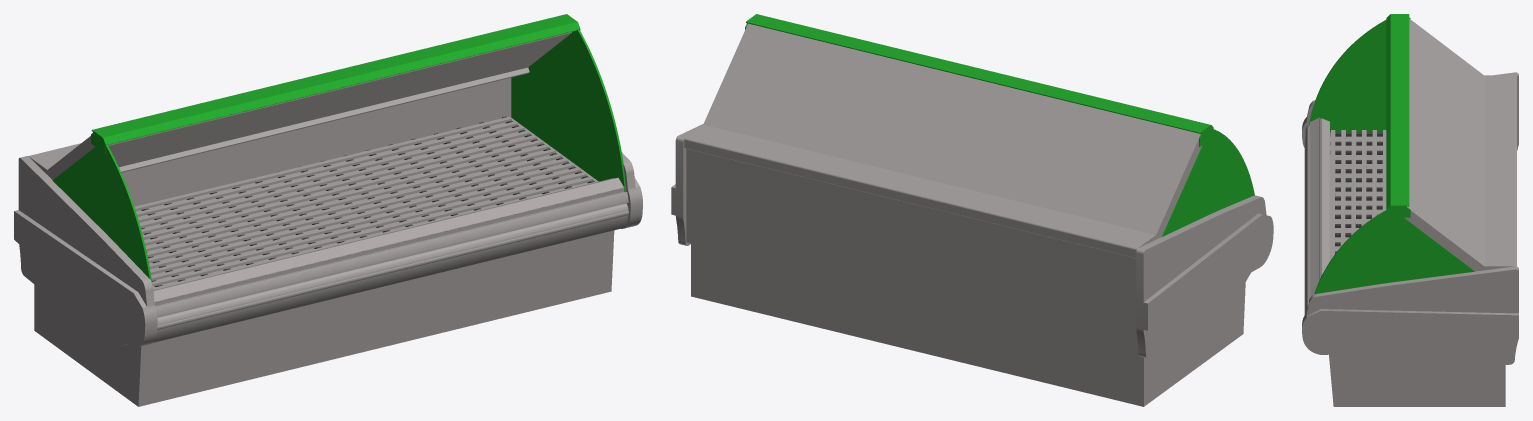
The model's file is fish storage Variant.fbx.
3 views of the same model, side by side, from view 1: azimuth 30°, elevation 25°; view 2: azimuth 150°, elevation 25°; view 3: azimuth 270°, elevation 25° (orthographic). The views are drawn at different scales.
Parts seen in each view (by area): view 1: Line01, 深色_1, Line07, Line18, Line03, Arc06, Line04, Arc07, 深色, Line02, Line19; view 2: Line01, Line03, Line18, Line02, Line04, Arc07, Line19; view 3: Line19, Line03, Line01, Arc06, Line02, Arc07, Line04, Line07, 深色_1, 深色, Line18, Line05.
Boxes of the visible parts, bbox=[...] form: Line01: bbox=[34, 177, 628, 406]; 深色_1: bbox=[134, 116, 597, 290]; Line07: bbox=[121, 78, 614, 290]; Line18: bbox=[14, 156, 157, 347]; Line03: bbox=[45, 32, 571, 179]; Arc06: bbox=[511, 29, 626, 192]; Line04: bbox=[93, 14, 579, 144]; Arc07: bbox=[52, 144, 152, 283]; 深色: bbox=[141, 116, 594, 286]; Line02: bbox=[28, 67, 529, 179]; Line19: bbox=[621, 152, 642, 228]; Line01: bbox=[686, 148, 1245, 406]; Line03: bbox=[703, 23, 1201, 240]; Line18: bbox=[1136, 195, 1273, 358]; Line02: bbox=[684, 124, 1163, 258]; Line04: bbox=[746, 14, 1209, 133]; Arc07: bbox=[1161, 129, 1254, 236]; Line19: bbox=[671, 124, 703, 245]; Line19: bbox=[1302, 266, 1518, 369]; Line03: bbox=[1404, 19, 1488, 271]; Line01: bbox=[1304, 117, 1505, 406]; Arc06: bbox=[1314, 210, 1474, 294]; Line02: bbox=[1471, 75, 1516, 271]; Arc07: bbox=[1308, 20, 1386, 132]; Line04: bbox=[1386, 14, 1409, 209]; Line07: bbox=[1321, 118, 1382, 276]; 深色_1: bbox=[1330, 130, 1386, 260]; 深色: bbox=[1330, 132, 1382, 253]; Line18: bbox=[1302, 72, 1518, 150]; Line05: bbox=[1386, 205, 1410, 217].
Bounding box in the file's own units: 263080 × 123250 × 120103.
